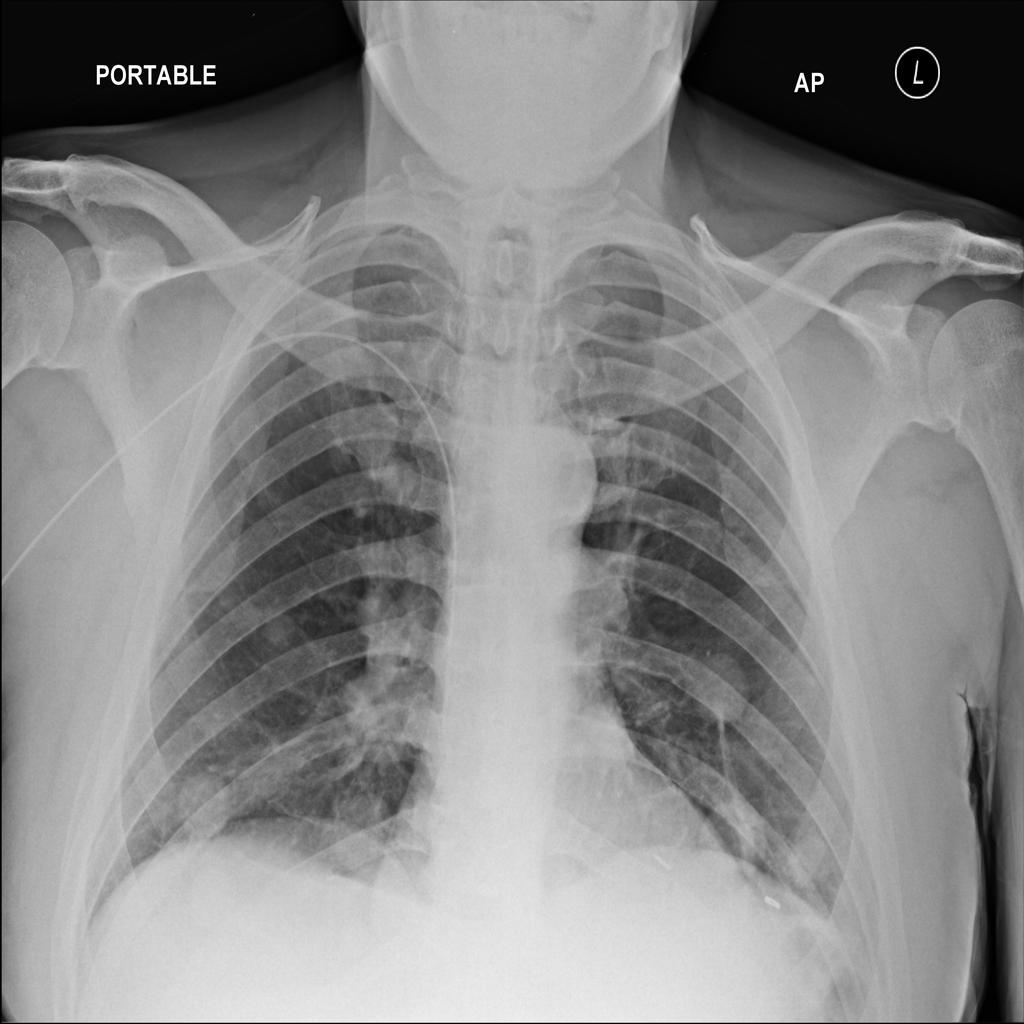nodule: (307, 774, 409, 890), (149, 752, 252, 856), (666, 630, 764, 738), (571, 694, 642, 771), (709, 795, 774, 876), (777, 814, 839, 895), (240, 591, 306, 667)
